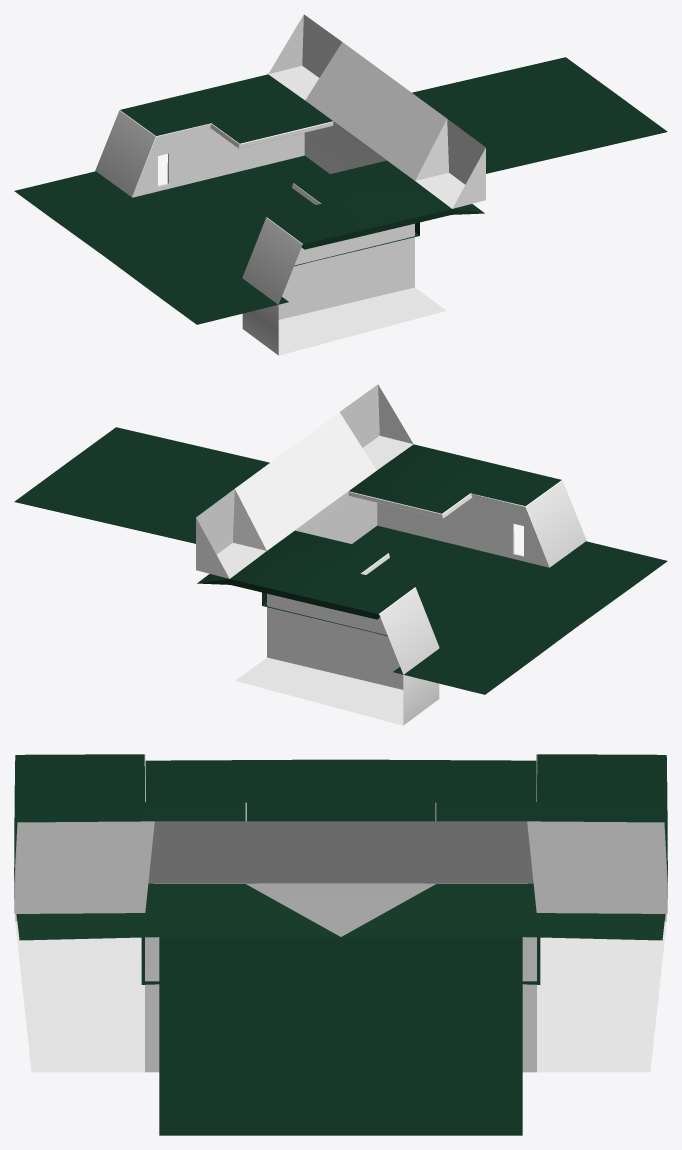
Rendered from Ship Structure.fbx.
The picture shows the model from 3 angles, top to bottom: view 1: azimuth 30°, elevation 25°; view 2: azimuth 150°, elevation 25°; view 3: azimuth 270°, elevation 25°; orthographic projection. The views are drawn at different scales.
Parts seen in each view (by area): view 1: Floor_White_0, Floor_green_deck_0, Floor_green_deck_0.011; view 2: Floor_White_0, Floor_green_deck_0, Floor_green_deck_0.011; view 3: Floor_green_deck_0, Floor_White_0, Floor_green_deck_0.011.
Part boxes in pixels (x1,y1,x2,y2): Floor_White_0: (95, 14, 485, 355); Floor_green_deck_0: (120, 57, 667, 249); Floor_green_deck_0.011: (14, 155, 419, 324); Floor_White_0: (196, 384, 586, 725); Floor_green_deck_0: (14, 427, 561, 619); Floor_green_deck_0.011: (262, 525, 667, 694); Floor_green_deck_0: (14, 754, 667, 1135); Floor_White_0: (14, 754, 667, 1072); Floor_green_deck_0.011: (141, 759, 540, 984).
Size of the model in its own units: 2867 by 847 by 1786.
